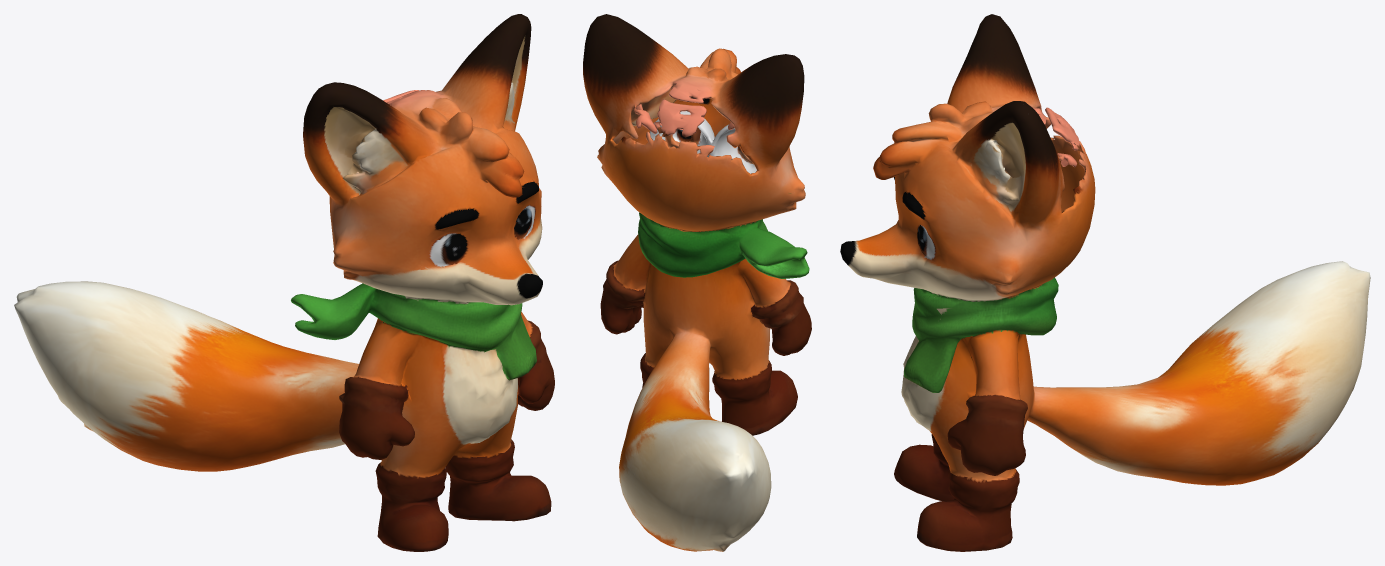
Rendered from fox.glb.
The picture shows the model from 3 angles, left to right: view 1: azimuth 30°, elevation 25°; view 2: azimuth 150°, elevation 25°; view 3: azimuth 270°, elevation 25°; orthographic projection. The views are drawn at different scales.
Size of the model in its own units: 0.6071 by 0.7842 by 0.8004.
Materials: 1 (1 with a texture image).
